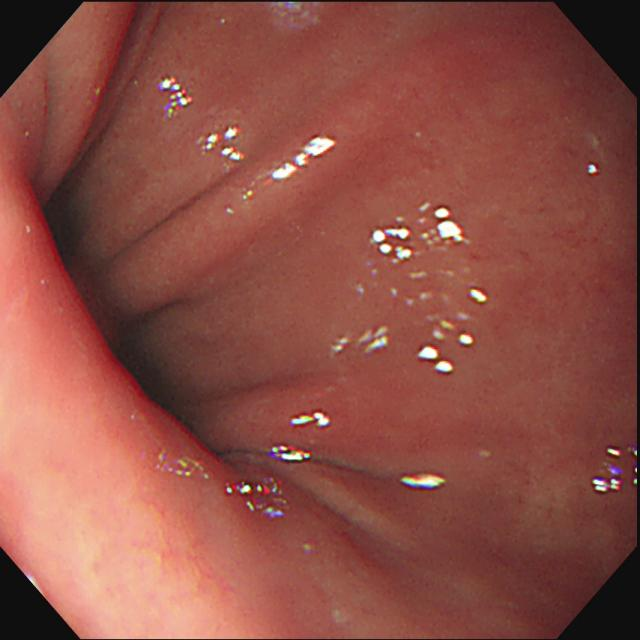I: (15, 160, 260, 481)
U: (239, 133, 339, 205), (416, 283, 491, 376), (369, 199, 470, 264), (224, 474, 287, 520), (589, 445, 639, 497), (197, 126, 247, 163), (152, 451, 208, 484), (161, 75, 194, 121), (396, 470, 449, 492), (288, 410, 335, 431), (269, 444, 316, 465), (584, 161, 602, 179)
